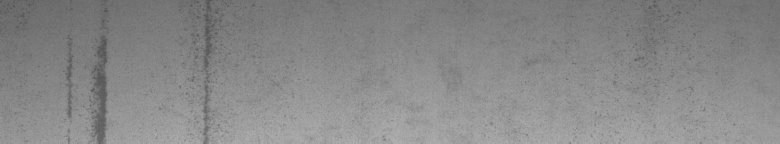hd: (63, 8, 113, 136)
